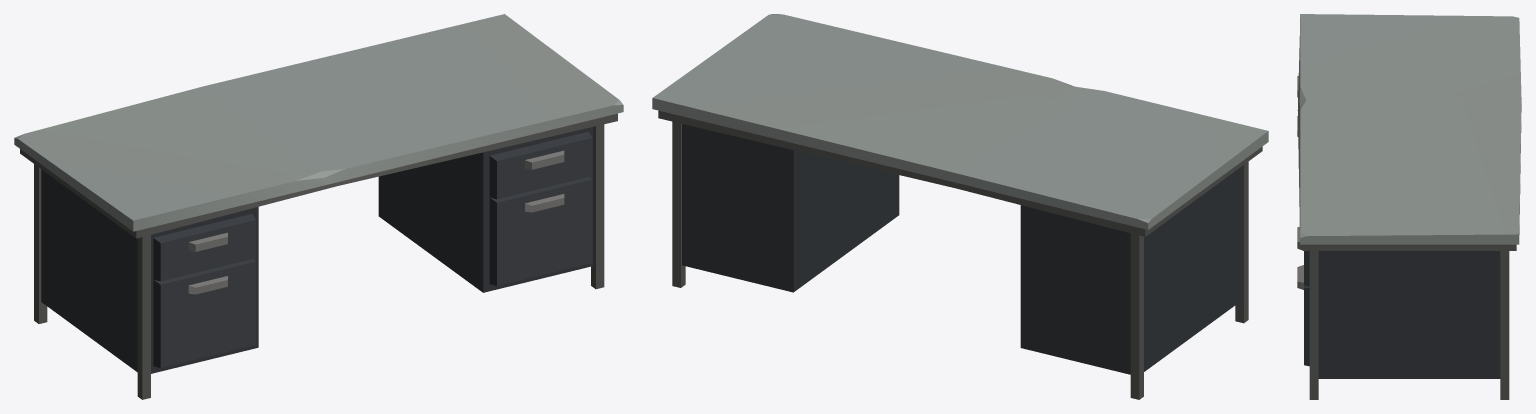
File: SM_Prop_Desk_04.obj
3 renders of one model, left to right at view 1: azimuth 30°, elevation 25°; view 2: azimuth 150°, elevation 25°; view 3: azimuth 270°, elevation 25°, orthographic. The views are drawn at different scales.
Parts seen in each view (by area): view 1: SM_Prop_Desk_04_Mat_SwatchOverlay_PolygonOffice_01_Inst; view 2: SM_Prop_Desk_04_Mat_SwatchOverlay_PolygonOffice_01_Inst; view 3: SM_Prop_Desk_04_Mat_SwatchOverlay_PolygonOffice_01_Inst.
Part boxes in pixels (box(x1,y1,x2,y2)): SM_Prop_Desk_04_Mat_SwatchOverlay_PolygonOffice_01_Inst: box(14, 14, 623, 399); SM_Prop_Desk_04_Mat_SwatchOverlay_PolygonOffice_01_Inst: box(652, 14, 1268, 399); SM_Prop_Desk_04_Mat_SwatchOverlay_PolygonOffice_01_Inst: box(1297, 14, 1521, 399).
Size of the model in its own units: 2.06 by 0.75 by 0.8863.
1 material, 1 textured.
